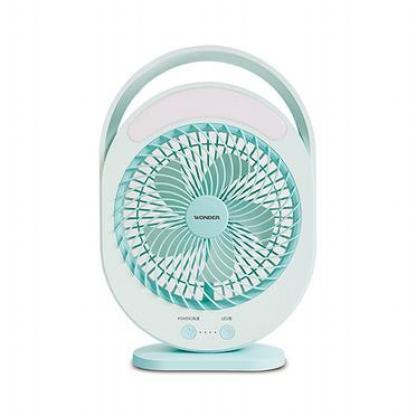fan: (94, 34, 321, 380)
